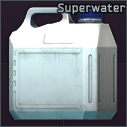Purified water: (0, 0, 127, 127)
